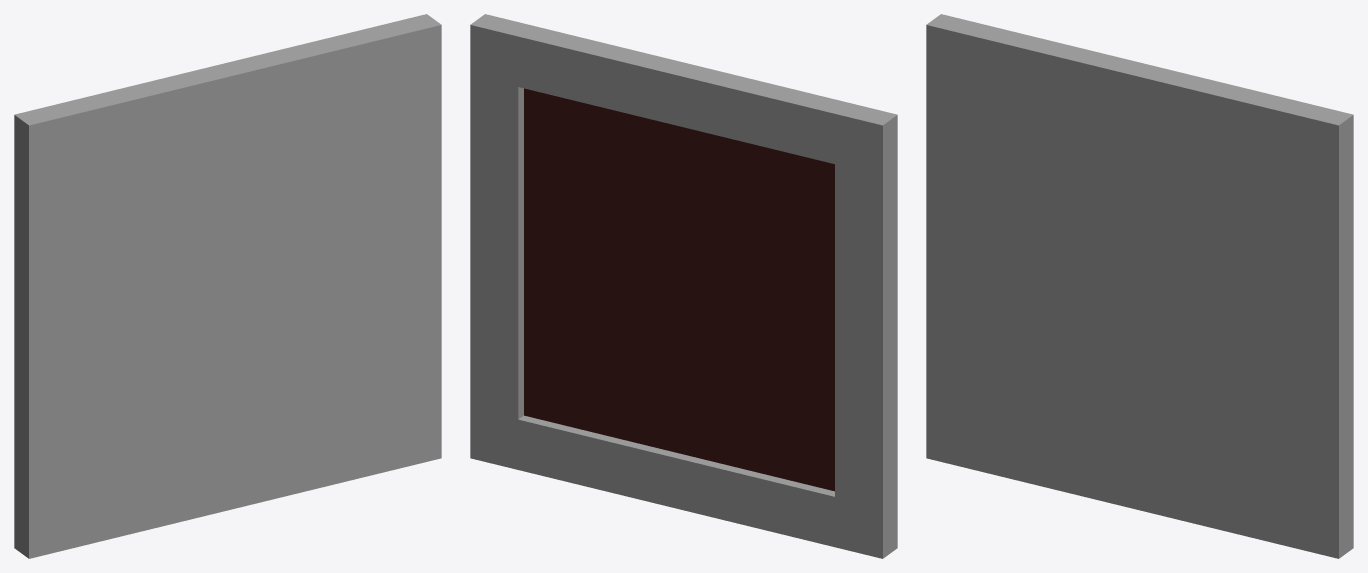
Rendered from WindowDoors.fbx.
3 renders of one model, left to right at view 1: azimuth 30°, elevation 25°; view 2: azimuth 150°, elevation 25°; view 3: azimuth 330°, elevation 25°, orthographic.
Parts seen in each view (by area): view 1: pCube59; view 2: pCube59; view 3: pCube59.
Boxes of the visible parts, x1,y1,x2,y2 form: pCube59: (14,14,441,558); pCube59: (470,14,897,558); pCube59: (926,14,1353,558).
Bounding box in the file's own units: 1.28 × 1.28 × 0.0794.
